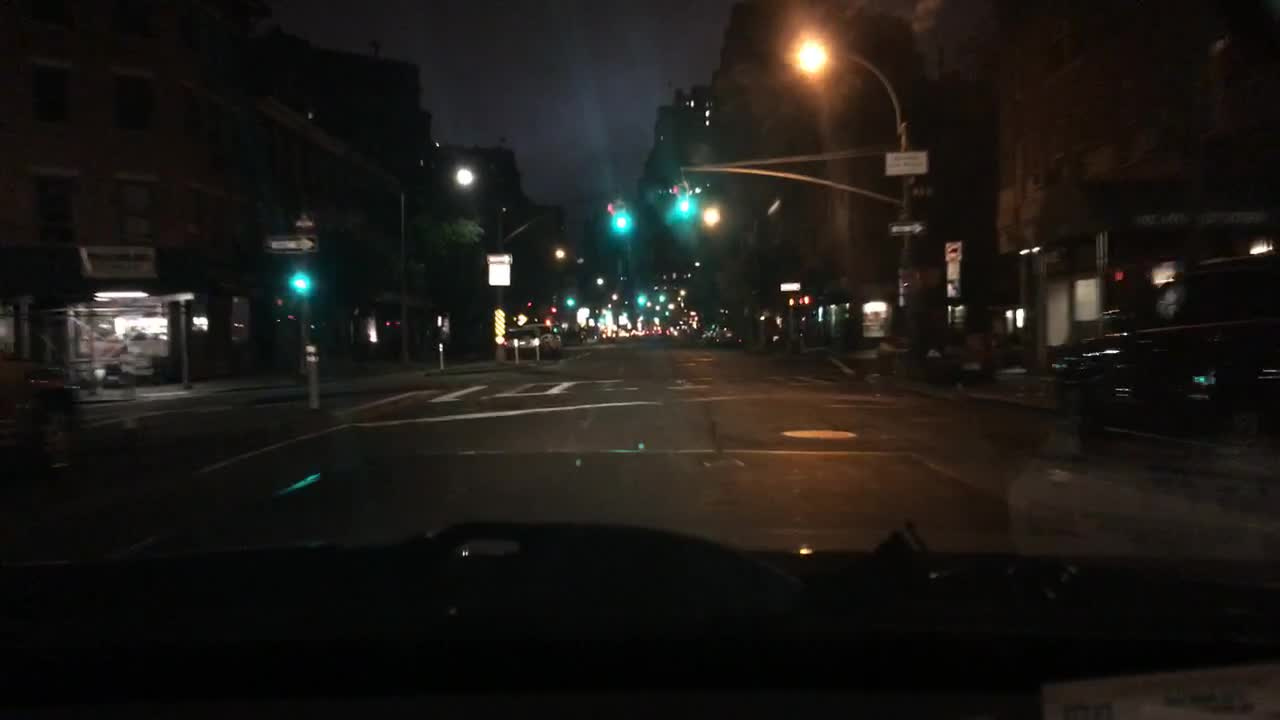car: (1039, 241, 1278, 473), (0, 349, 83, 512), (501, 322, 549, 357), (716, 319, 757, 349), (535, 322, 571, 354), (699, 323, 719, 349), (688, 327, 708, 347), (671, 327, 690, 342), (596, 329, 617, 342), (613, 328, 635, 338), (631, 325, 647, 338), (663, 325, 675, 342)
traffic light: (291, 259, 306, 290), (678, 186, 691, 212), (1108, 267, 1126, 285), (671, 183, 681, 212), (615, 202, 626, 227), (605, 201, 615, 228), (637, 287, 647, 303), (658, 287, 667, 302), (566, 289, 573, 305)
traffic sign: (882, 151, 928, 177), (267, 233, 316, 254), (890, 218, 925, 236), (487, 262, 511, 285), (945, 242, 960, 261), (945, 262, 959, 282), (779, 282, 802, 292), (487, 253, 512, 262), (293, 218, 311, 227)
